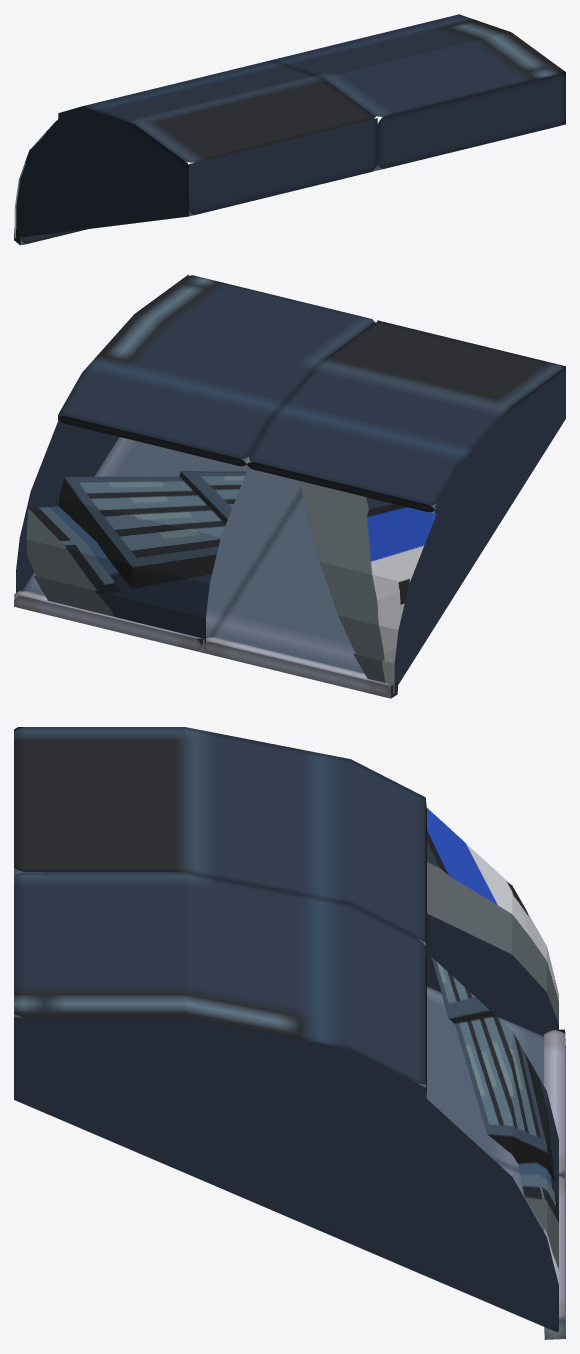
Rendered from df11g_carport_yue.obj.
3 renders of one model, top to bottom at view 1: azimuth 30°, elevation 25°; view 2: azimuth 150°, elevation 25°; view 3: azimuth 270°, elevation 25°, orthographic. The views are drawn at different scales.
Parts seen in each view (by area): view 1: cube; view 2: cube; view 3: cube.
Boxes of the visible parts, left/top/right/bottom form: cube: left=14, top=14, right=565, bottom=245; cube: left=14, top=274, right=565, bottom=698; cube: left=14, top=727, right=565, bottom=1339.
Size of the model in its own units: 2.01 by 1.04 by 1.61.
